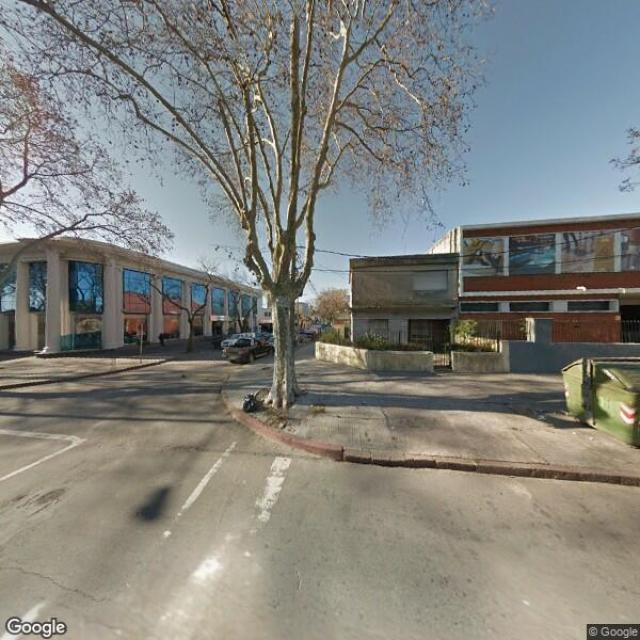garbage container: (551, 350, 640, 460)
